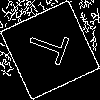T: (25, 25, 79, 70)
